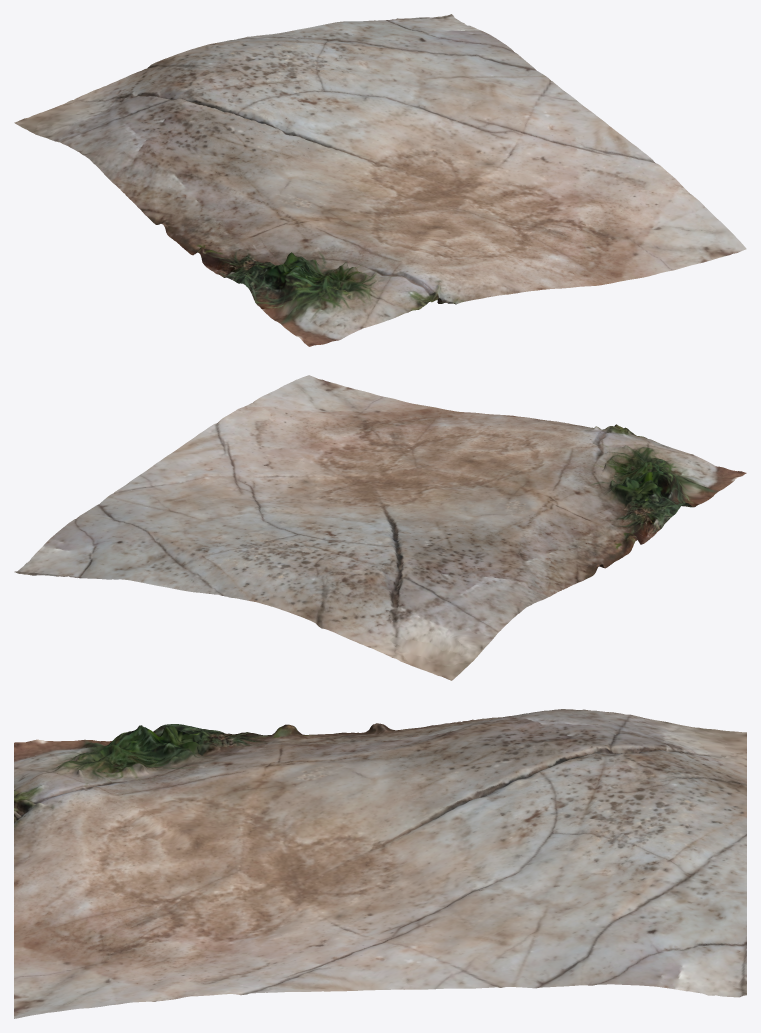
File: dalle-02.glb
The picture shows the model from 3 angles, top to bottom: view 1: azimuth 30°, elevation 25°; view 2: azimuth 150°, elevation 25°; view 3: azimuth 270°, elevation 25°; orthographic projection. The views are drawn at different scales.
Parts seen in each view (by area): view 1: Node1; view 2: Node1; view 3: Node1.
Part boxes in pixels (left/top/right/bottom): Node1: left=14, top=14, right=746, bottom=346; Node1: left=14, top=375, right=746, bottom=680; Node1: left=14, top=709, right=746, bottom=1018.
Size of the model in its own units: 0.5514 by 0.0756 by 0.6436.
Materials: 1 (1 with a texture image).
